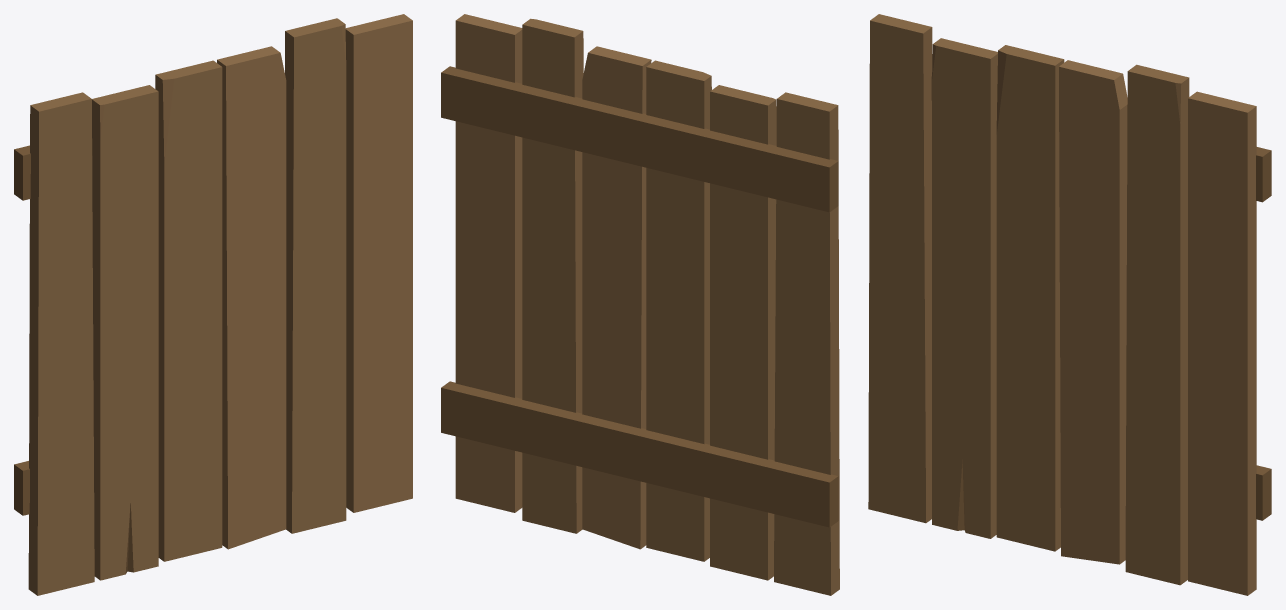
The model's file is SM_Fence_02.glb.
3 renders of one model, left to right at view 1: azimuth 30°, elevation 25°; view 2: azimuth 150°, elevation 25°; view 3: azimuth 330°, elevation 25°, orthographic.
Visible parts, largest first — view 1: SM_Fence_02; view 2: SM_Fence_02; view 3: SM_Fence_02.
Part boxes in pixels (box(x1,y1,x2,y2)): SM_Fence_02: box(14, 14, 412, 595); SM_Fence_02: box(441, 14, 839, 595); SM_Fence_02: box(868, 14, 1271, 595).
Size of the model in its own units: 1.02 by 1.24 by 0.0766.
1 material, 1 textured.
